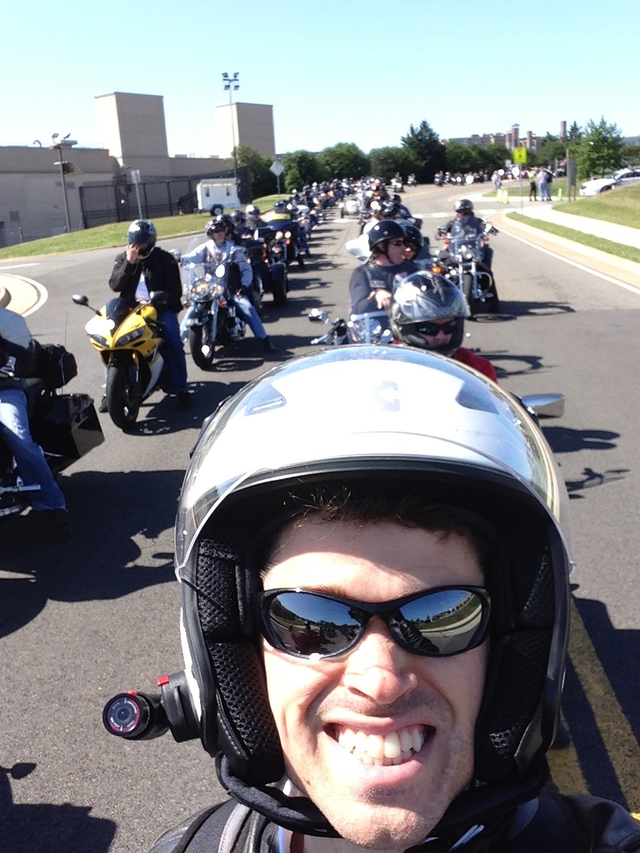helmet: (181, 365, 581, 739), (386, 281, 481, 350), (365, 221, 408, 252), (128, 220, 157, 254), (199, 221, 230, 243)
